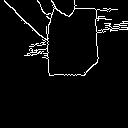cube: (40, 6, 103, 83)
